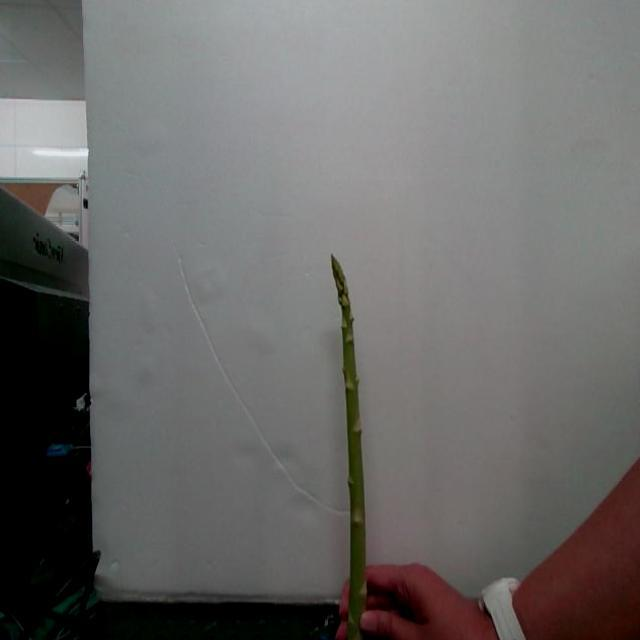aspargus: (332, 258, 369, 640)
